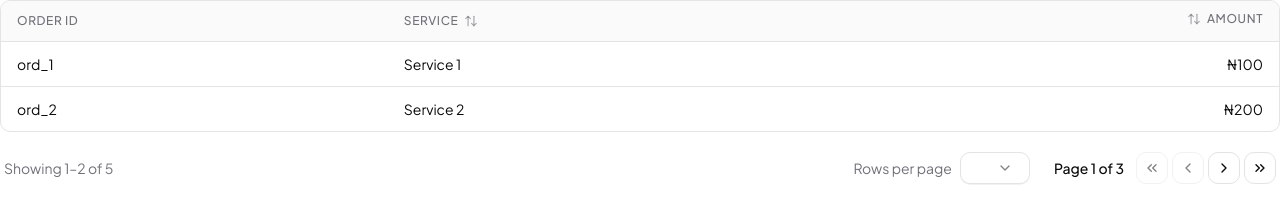
Test case: DataTable Component (F6.1) › Client-side sorting and pagination › paginates client dataset when exceeding defaultPageSize
This screenshot has width=1280, height=202.
Expected: the text "Showing 1–2 of 5" is shown, 4,158 -> 114,178
Expected: the text "Page 1 of 3" is shown, 1054,158 -> 1124,178
Step 1. Click the button named "go to next page" → (1224, 168), box 1208,152 -> 1240,184
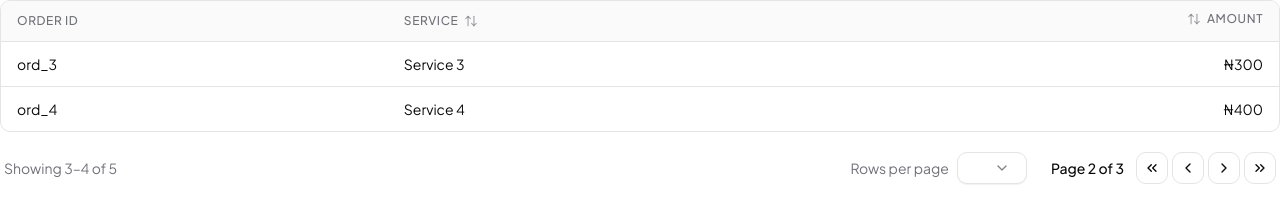
Expected: the text "Showing 3–4 of 5" is shown, 4,158 -> 117,178
Expected: the text "Page 2 of 3" is shown, 1051,158 -> 1124,178
Expected: the text "ord_3" is shown, 1,41 -> 388,86
